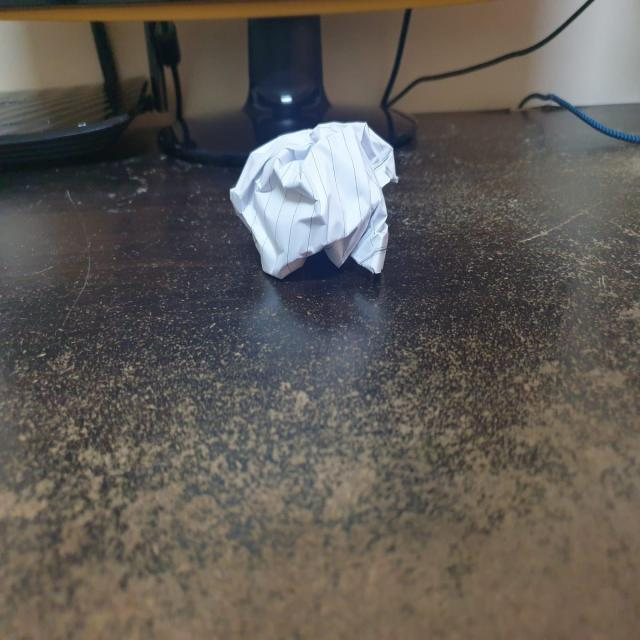cardboard paper: (229, 121, 395, 277)
